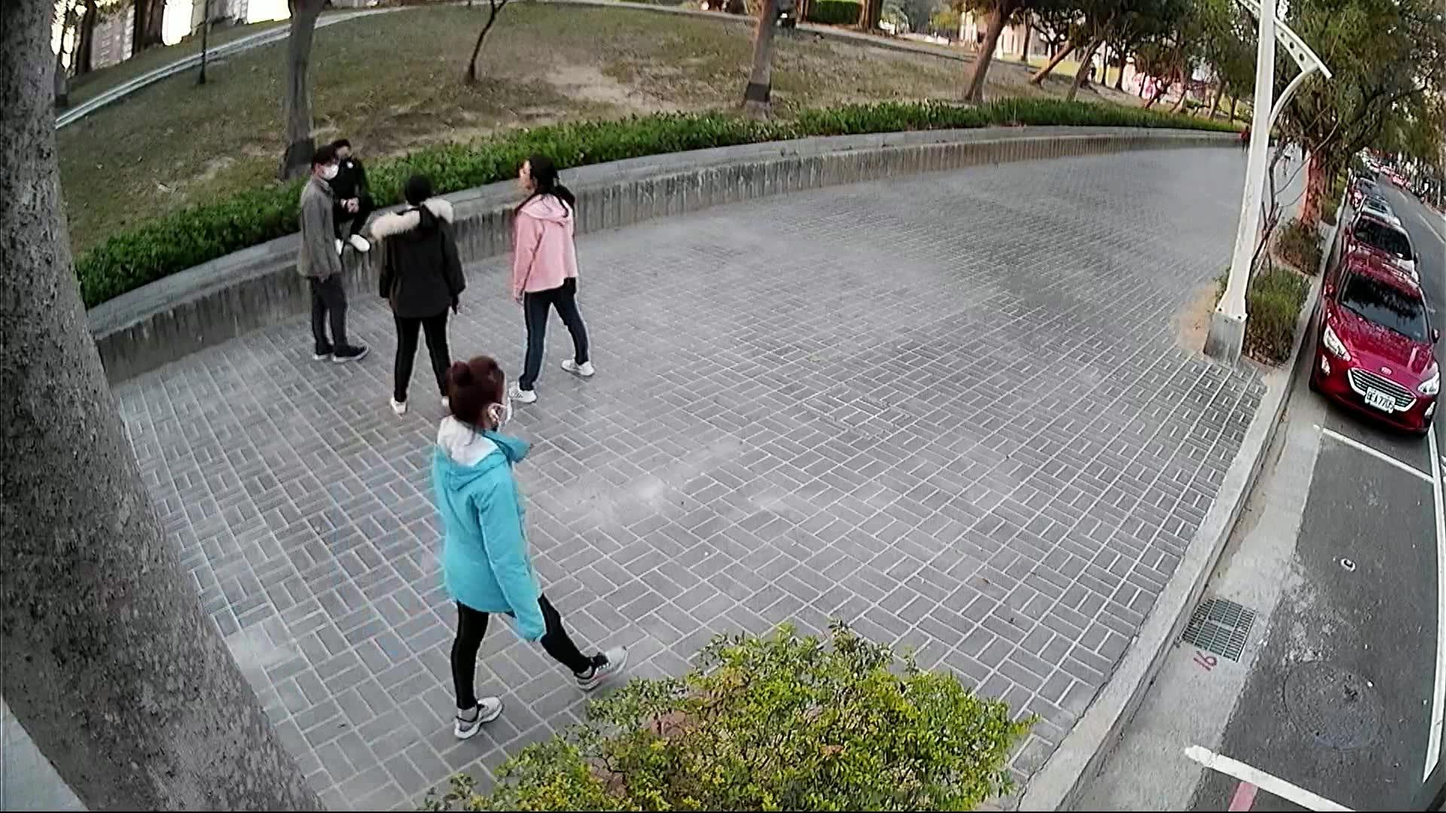person: (424, 349, 630, 743), (488, 149, 600, 410), (365, 169, 468, 417), (288, 142, 373, 367), (326, 132, 374, 258), (1278, 131, 1296, 177)
